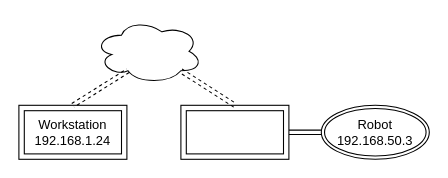
Some shapes in this 448 by 178 pixel diagram are drawn without their labels. Each missing label, with the centre of its shape:
NUC 192.168.1.243: the point at 234,131
Router: the point at 147,51
